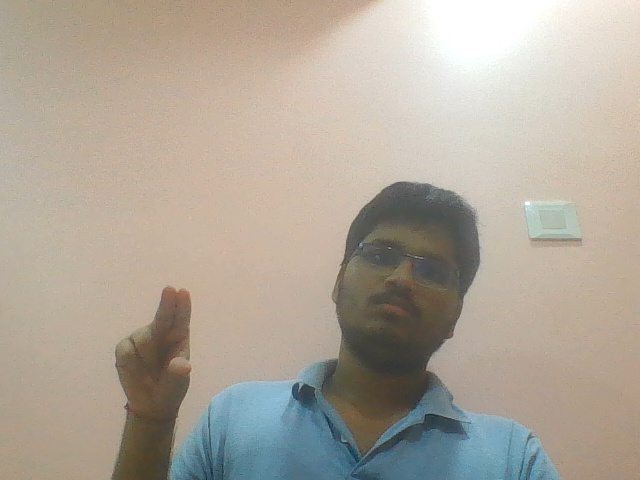no: (78, 281, 210, 421)
